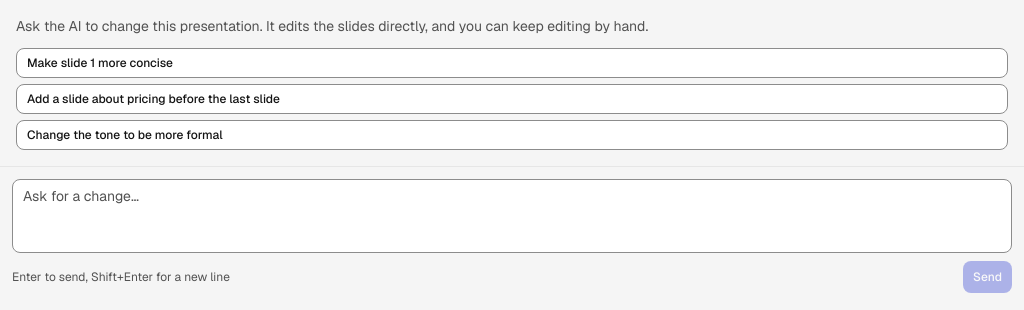
ChatPanel › skips a change to a slide the user edited while the AI was working
Type "Shorten slide 1" into the text box named "Message to the AI" at (512, 216), box [12, 179, 1012, 253]
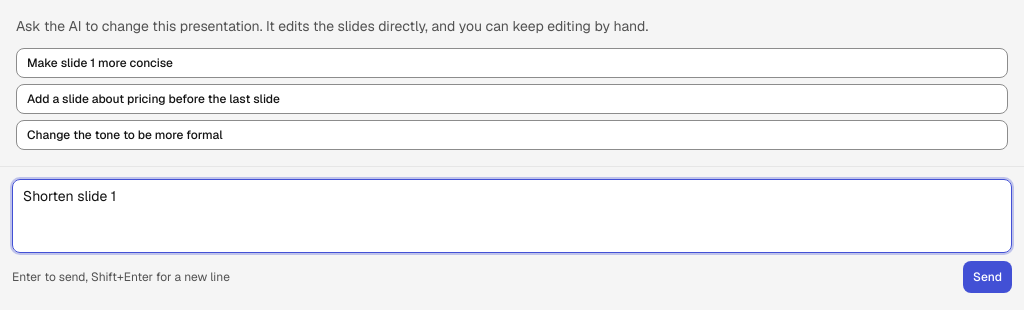
Click the button "Send" at (988, 277), box [963, 261, 1012, 293]
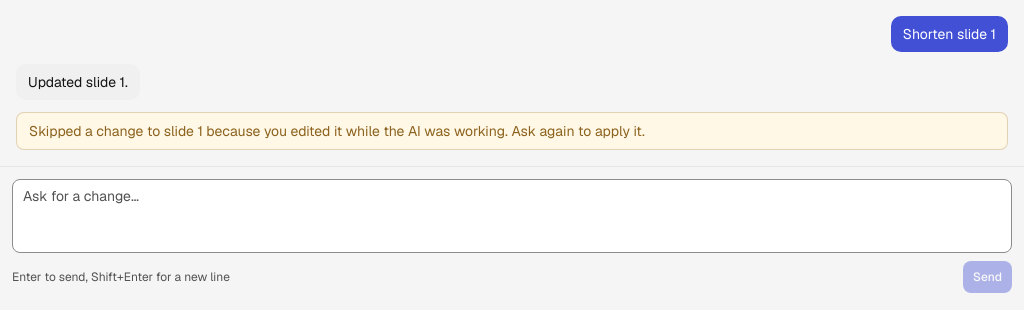
Expected: the list item "Skipped a change to slide 1 because you edited it" is shown, [29, 122, 645, 140]
